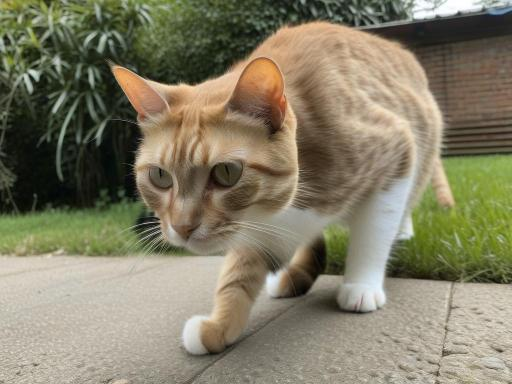cat_standing: (111, 22, 453, 354)
